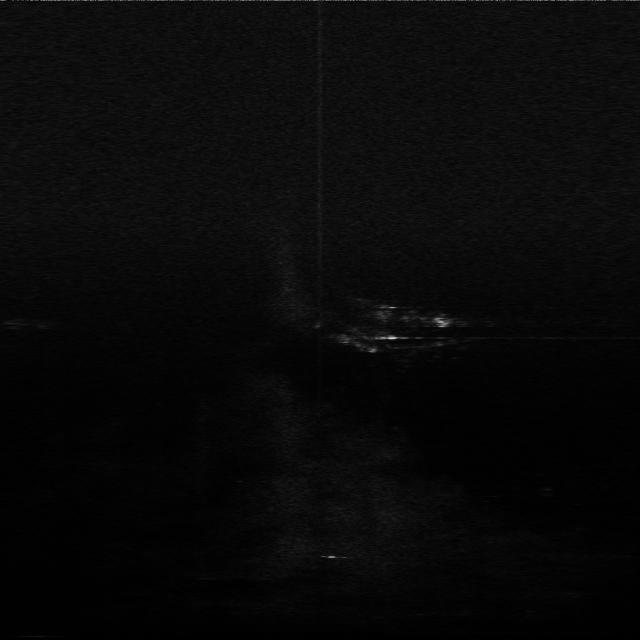rov: (429, 314, 453, 331)
